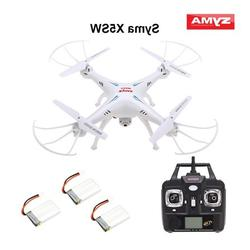drone: (31, 37, 222, 156)
